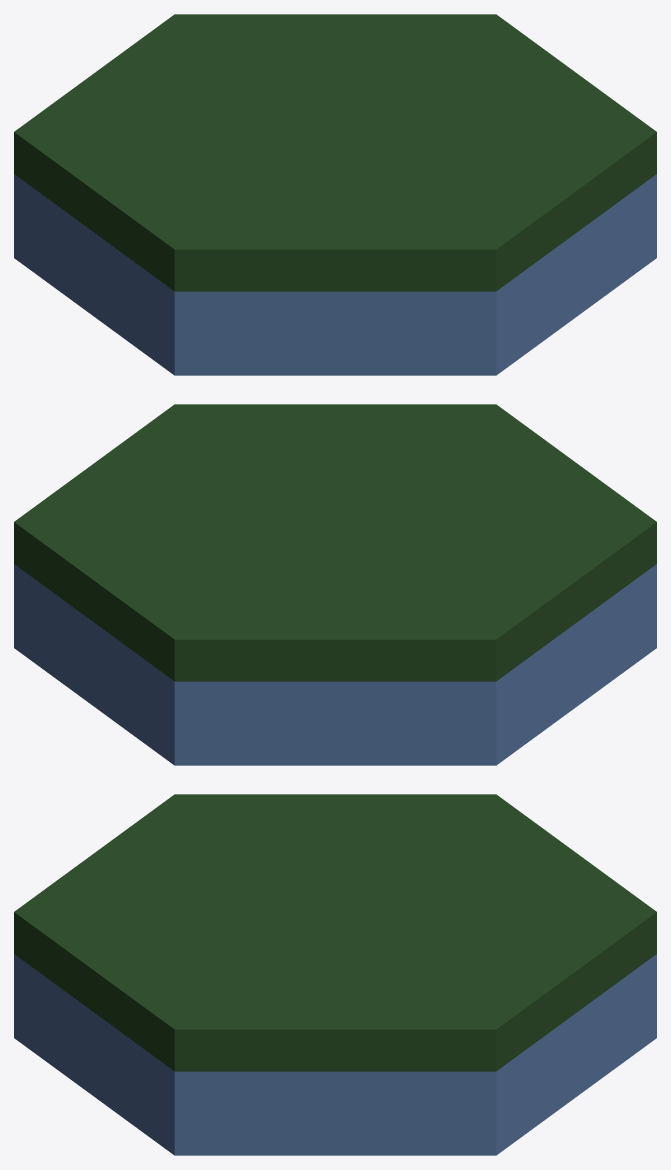
Rendered from hex_35.glb.
3 views of the same model, one above another, from view 1: azimuth 30°, elevation 25°; view 2: azimuth 150°, elevation 25°; view 3: azimuth 270°, elevation 25° (orthographic).
Parts seen in each view (by area): view 1: hex_35; view 2: hex_35; view 3: hex_35.
Part boxes in pixels (bbox=[...]): hex_35: bbox=[14, 14, 656, 375]; hex_35: bbox=[14, 404, 656, 765]; hex_35: bbox=[14, 794, 656, 1155].
Size of the model in its own units: 0.9994 by 0.2498 by 1.15.
